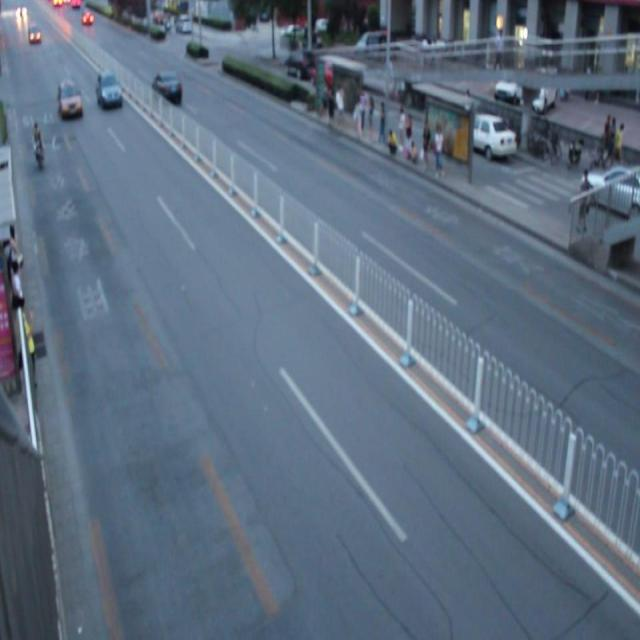car: (56, 78, 84, 120), (152, 69, 182, 106), (96, 70, 122, 110)
